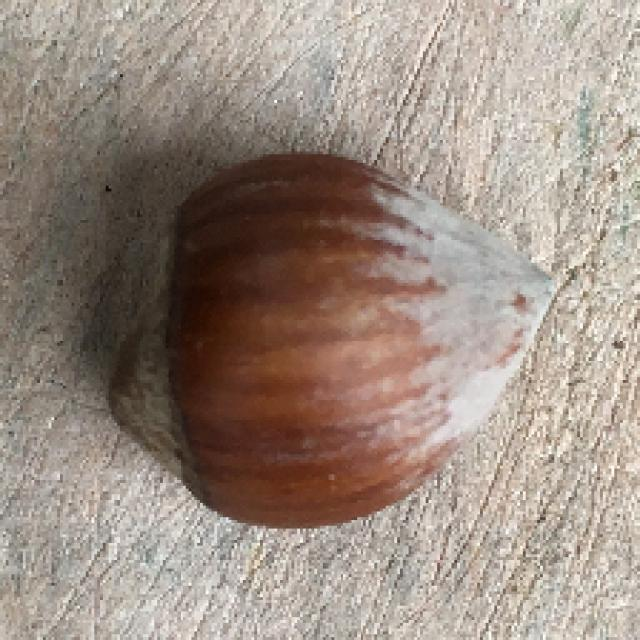qualityHazelnut: (104, 150, 559, 524)
